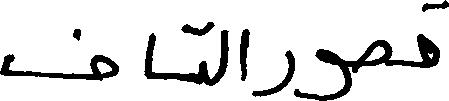X: (0, 24, 116, 85), (300, 44, 350, 100), (255, 45, 294, 100), (419, 0, 448, 72), (177, 19, 204, 89), (361, 35, 390, 71), (241, 24, 247, 85), (219, 25, 225, 85), (147, 28, 153, 83)
